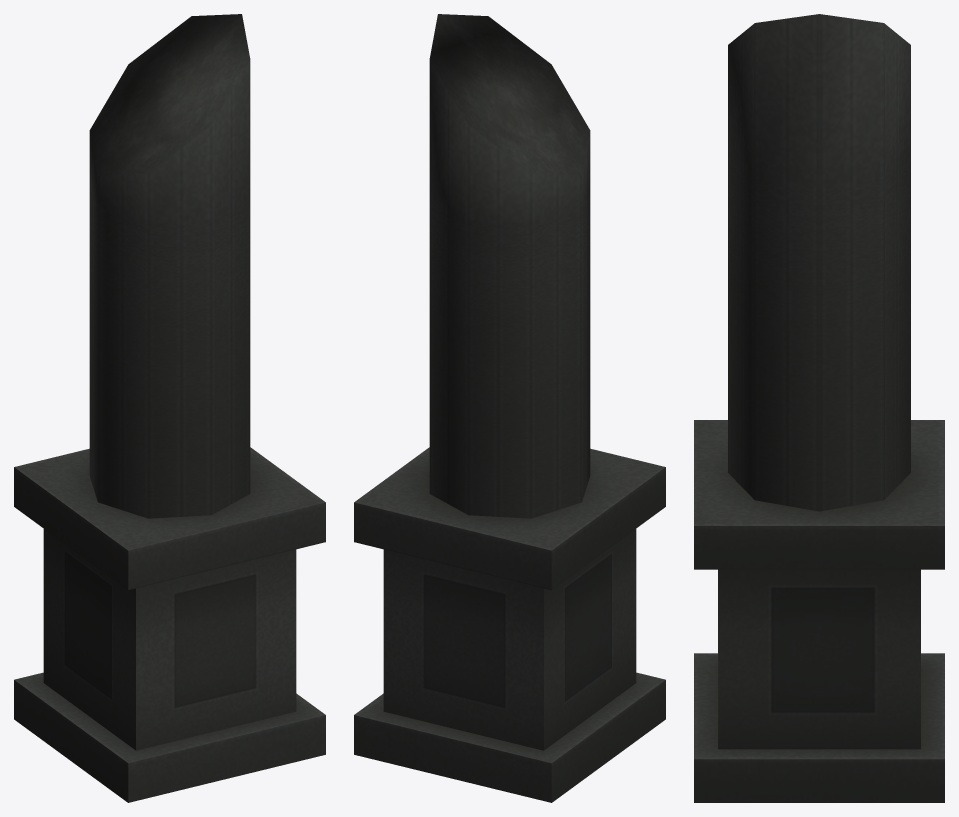
The model's file is hasira2.fbx.
3 renders of one model, left to right at view 1: azimuth 30°, elevation 25°; view 2: azimuth 150°, elevation 25°; view 3: azimuth 270°, elevation 25°, orthographic. The views are drawn at different scales.
Visible parts, largest first — view 1: hasira2; view 2: hasira2; view 3: hasira2.
Part boxes in pixels (left/top/right/bottom): hasira2: left=14, top=14, right=325, bottom=802; hasira2: left=354, top=14, right=665, bottom=802; hasira2: left=694, top=14, right=944, bottom=802.
Size of the model in its own units: 2.25 by 7.67 by 2.25.
Materials: 1 (1 with a texture image).
